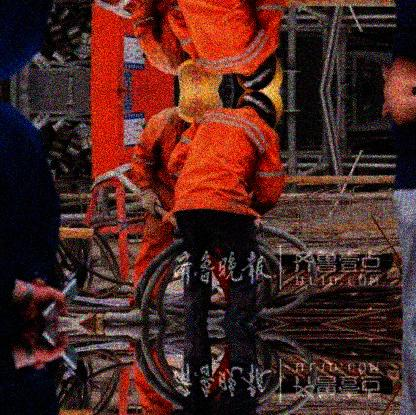helmet: (237, 82, 284, 126), (179, 78, 216, 115)
